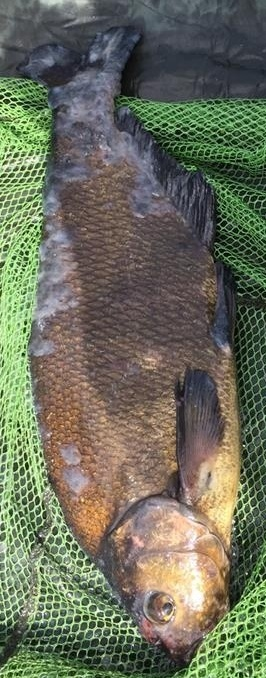Abramis brama: (20, 20, 246, 658)
